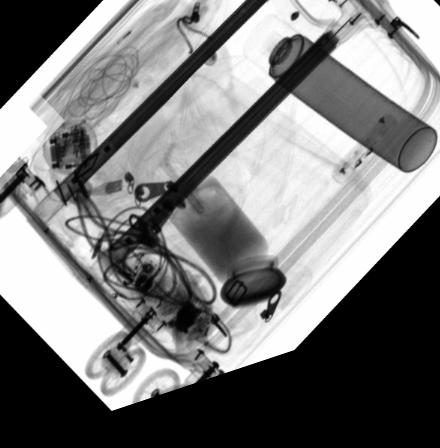Sprayer: (241, 32, 436, 199)
